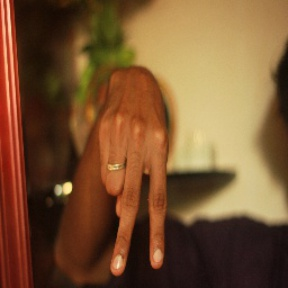Y: (88, 110, 181, 276)
